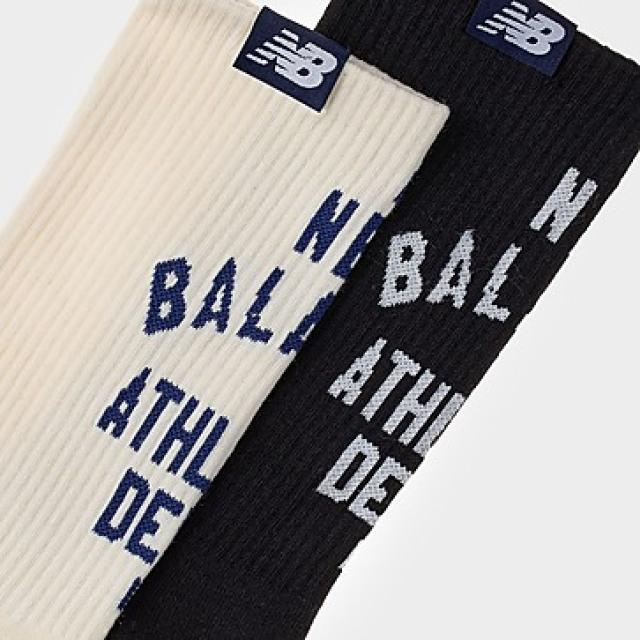sock: (102, 0, 638, 638)
